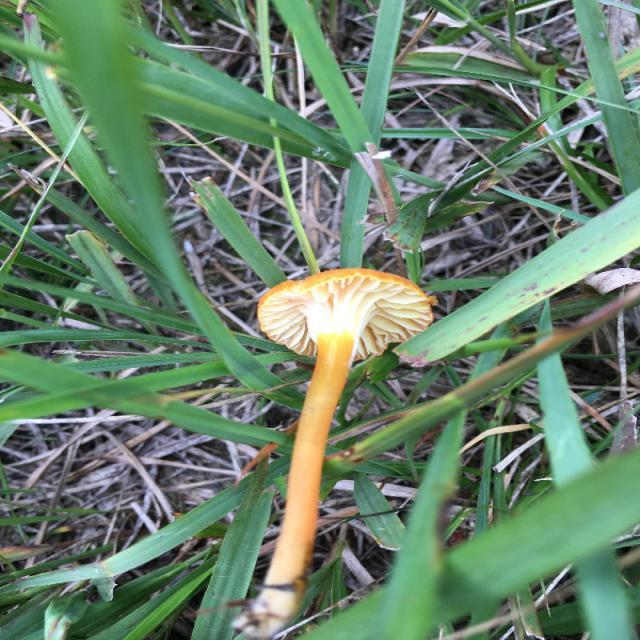Cantharellus cibarius: (253, 270, 438, 640)
